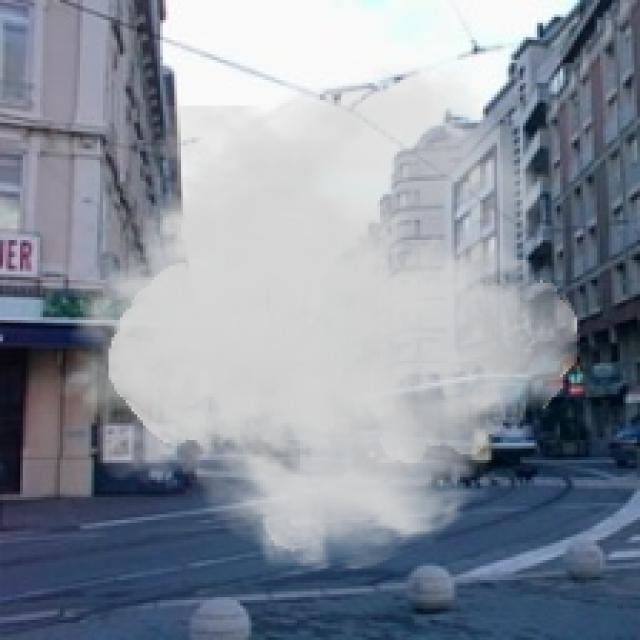Smoke: (54, 60, 580, 577)
